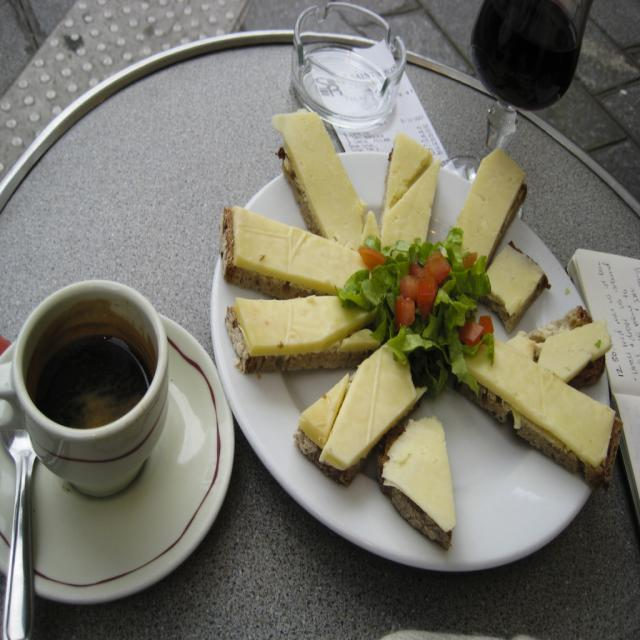Cheese: (462, 330, 620, 470), (292, 336, 432, 476), (266, 103, 376, 249), (233, 205, 369, 289), (376, 412, 450, 540), (232, 293, 374, 359), (452, 145, 530, 264), (371, 134, 437, 250), (541, 316, 615, 385), (484, 236, 544, 318)
